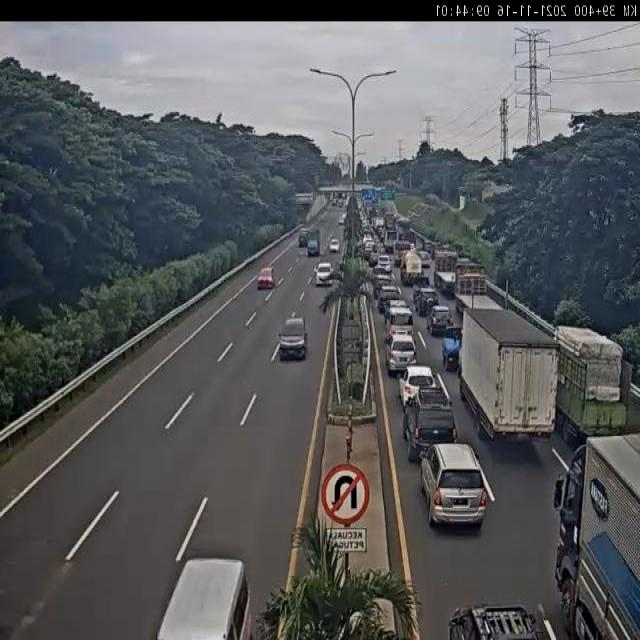Car: (155, 558, 253, 639), (420, 442, 488, 528), (403, 383, 457, 460), (446, 601, 546, 639), (398, 364, 437, 409), (276, 316, 310, 362), (384, 331, 417, 376), (413, 286, 439, 318), (428, 305, 453, 338), (377, 284, 402, 314), (386, 304, 413, 331), (371, 274, 393, 302), (315, 261, 334, 286), (257, 267, 275, 290), (377, 254, 393, 273), (362, 242, 375, 260), (307, 239, 319, 256), (329, 238, 339, 252), (298, 232, 308, 246), (338, 214, 346, 226)
Truck: (556, 432, 638, 638), (459, 308, 556, 436), (553, 326, 636, 439), (454, 264, 500, 310), (434, 250, 461, 288), (401, 250, 427, 287)
